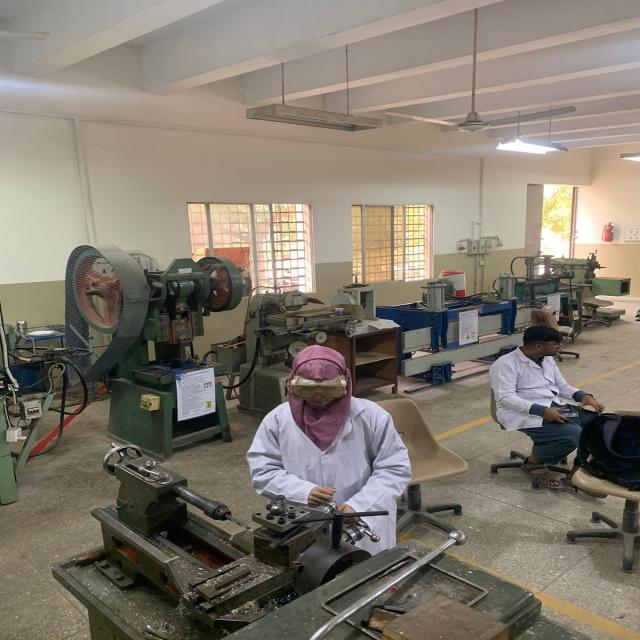googles: (286, 376, 348, 400)
labcoat: (244, 393, 413, 559), (486, 345, 586, 435)
